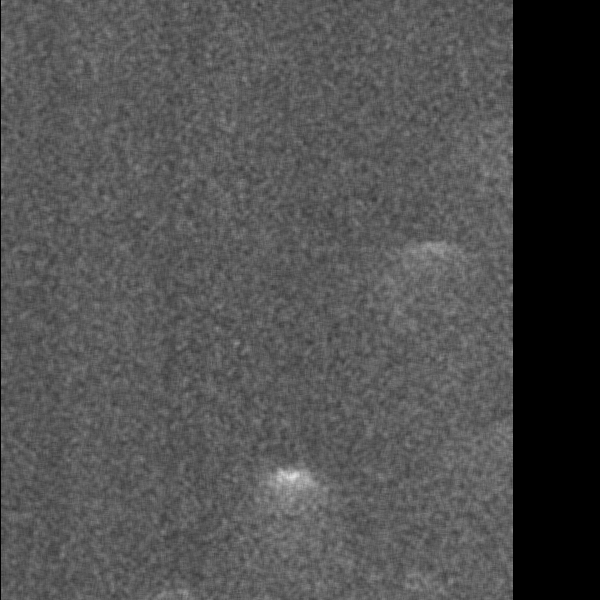spark: (211, 186, 237, 227)
